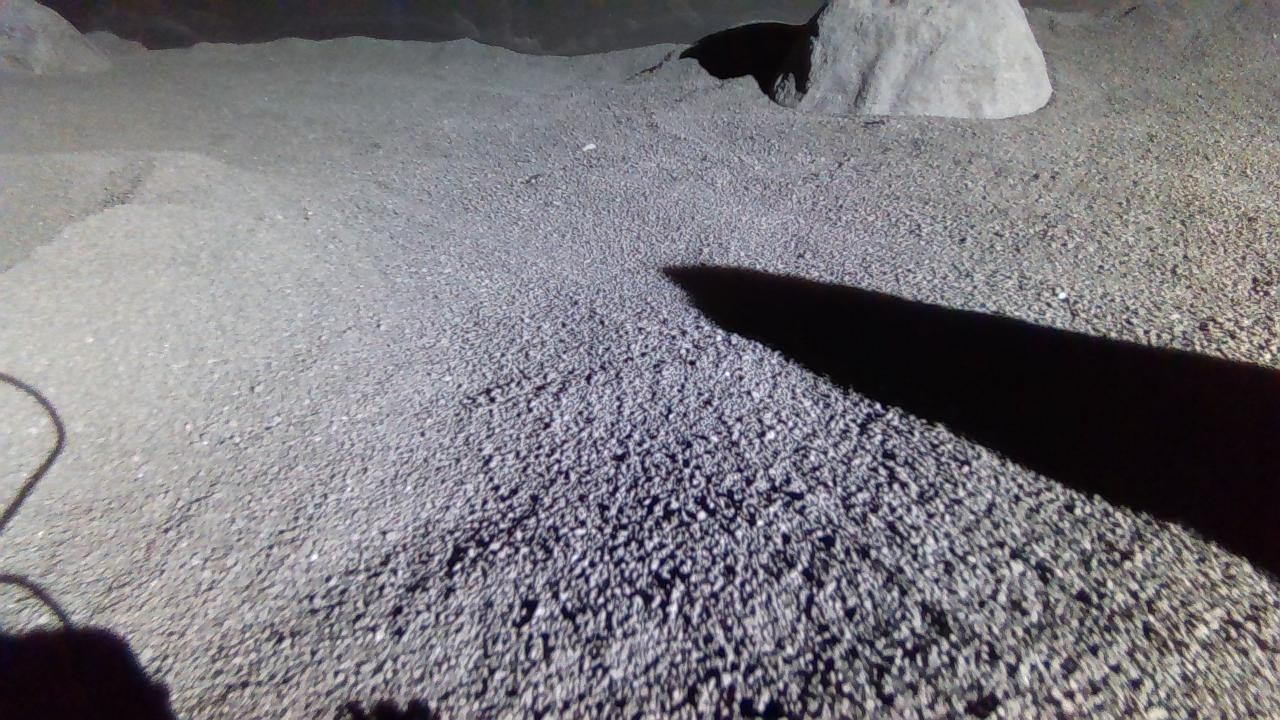rock: (775, 0, 1054, 116), (0, 0, 109, 72)
